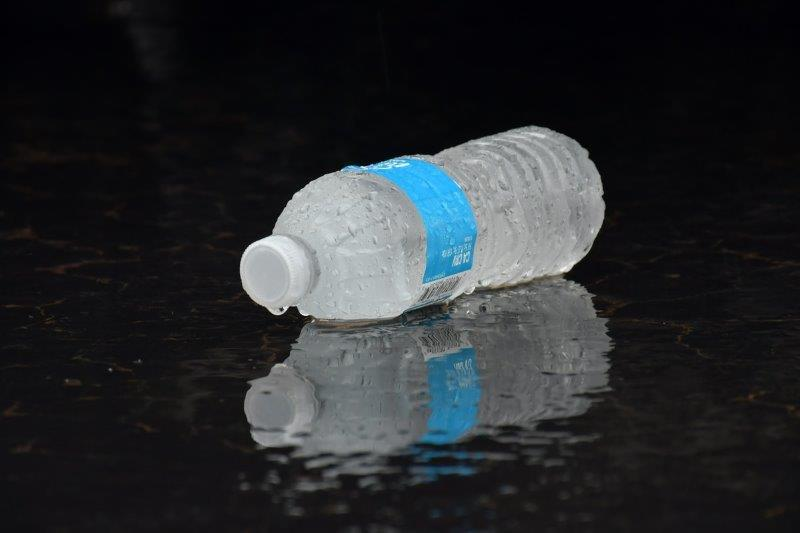plastic: (236, 123, 606, 323)
